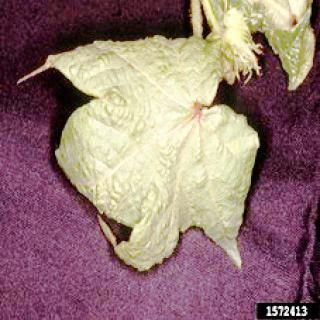curl: (48, 34, 256, 276)
